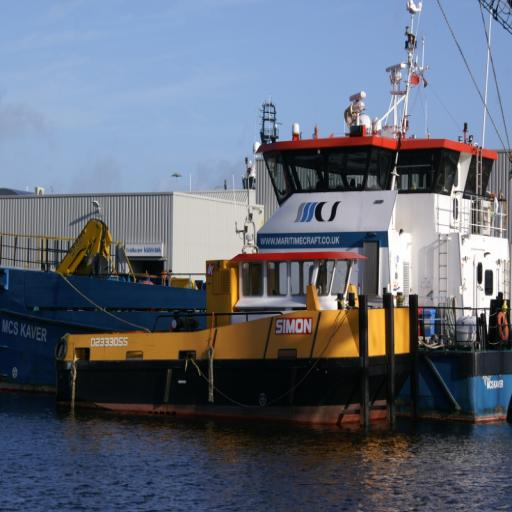tugboat: (59, 233, 424, 439)
